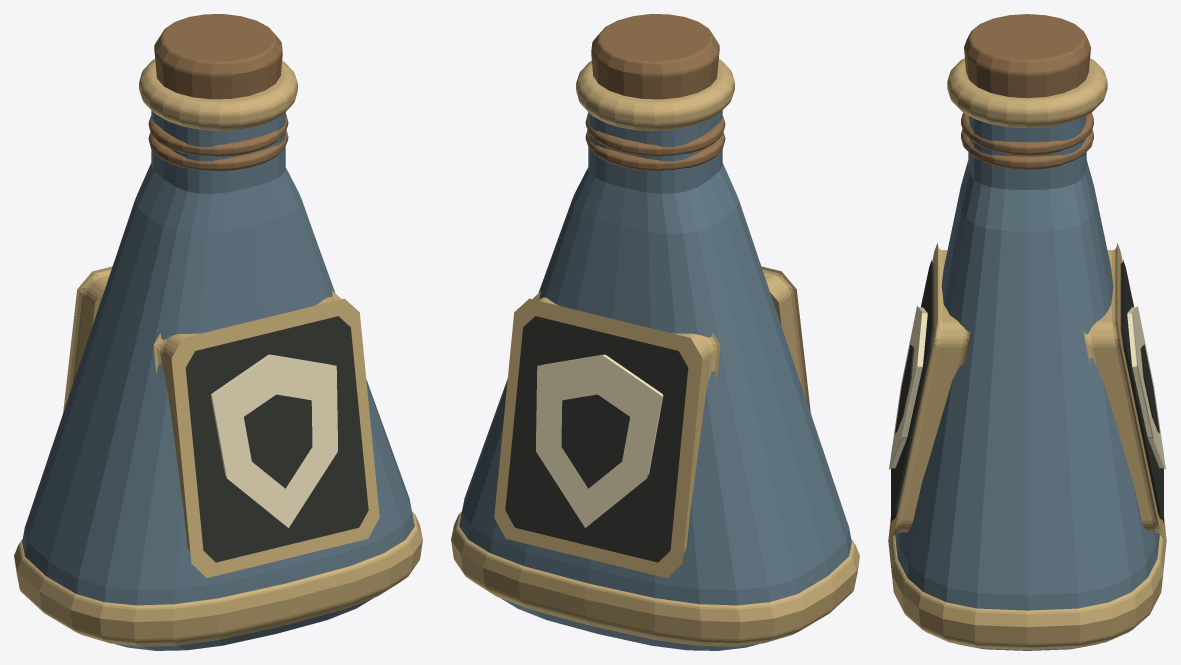
File: stoneguard_brew.glb
3 views of the same model, side by side, from view 1: azimuth 30°, elevation 25°; view 2: azimuth 150°, elevation 25°; view 3: azimuth 270°, elevation 25° (orthographic).
Visible parts, largest first — view 1: stoneguard_brew; view 2: stoneguard_brew; view 3: stoneguard_brew.
Part boxes in pixels (left/top/right/bottom): stoneguard_brew: left=14, top=14, right=422, bottom=650; stoneguard_brew: left=451, top=14, right=859, bottom=650; stoneguard_brew: left=888, top=14, right=1166, bottom=650.
Size of the model in its own units: 0.54 by 0.8 by 0.368.
